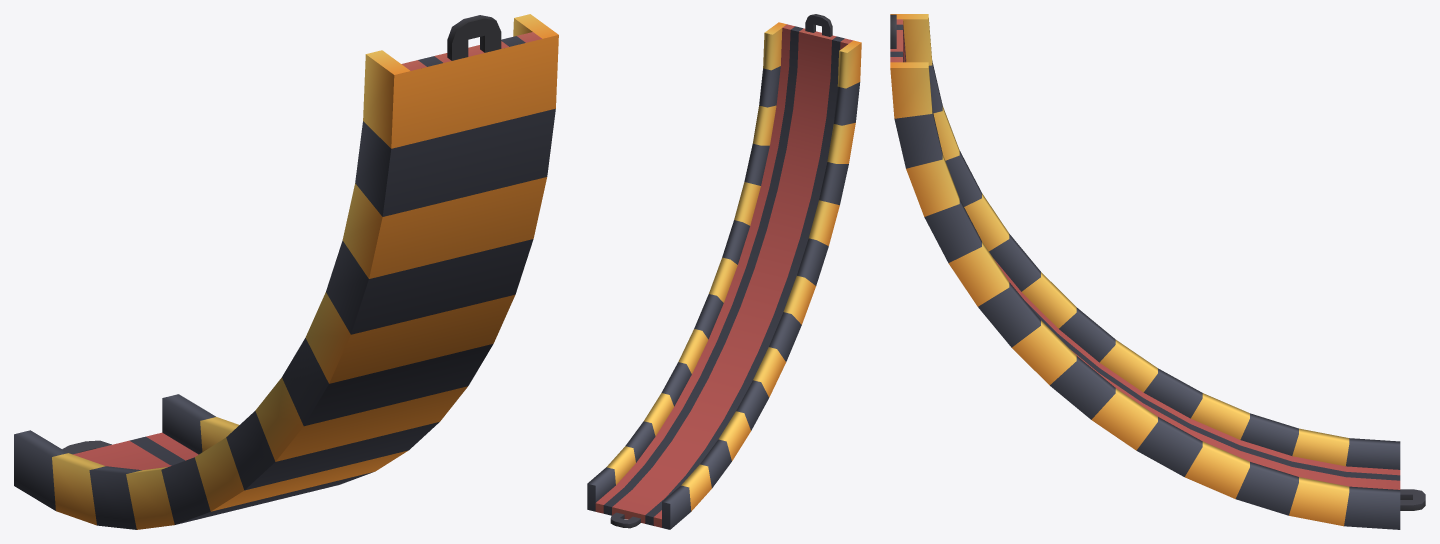
The model's file is track-road-narrow-straight-bend-large.fbx.
3 views of the same model, side by side, from view 1: azimuth 30°, elevation 25°; view 2: azimuth 150°, elevation 25°; view 3: azimuth 270°, elevation 25° (orthographic). The views are drawn at different scales.
Parts seen in each view (by area): view 1: track-road-narrow-straight-bend-large; view 2: track-road-narrow-straight-bend-large; view 3: track-road-narrow-straight-bend-large.
Boxes of the visible parts, bbox=[...] form: track-road-narrow-straight-bend-large: bbox=[14, 14, 558, 529]; track-road-narrow-straight-bend-large: bbox=[587, 14, 861, 529]; track-road-narrow-straight-bend-large: bbox=[890, 14, 1425, 529].
Bounding box in the file's own units: 100 × 420 × 420.
